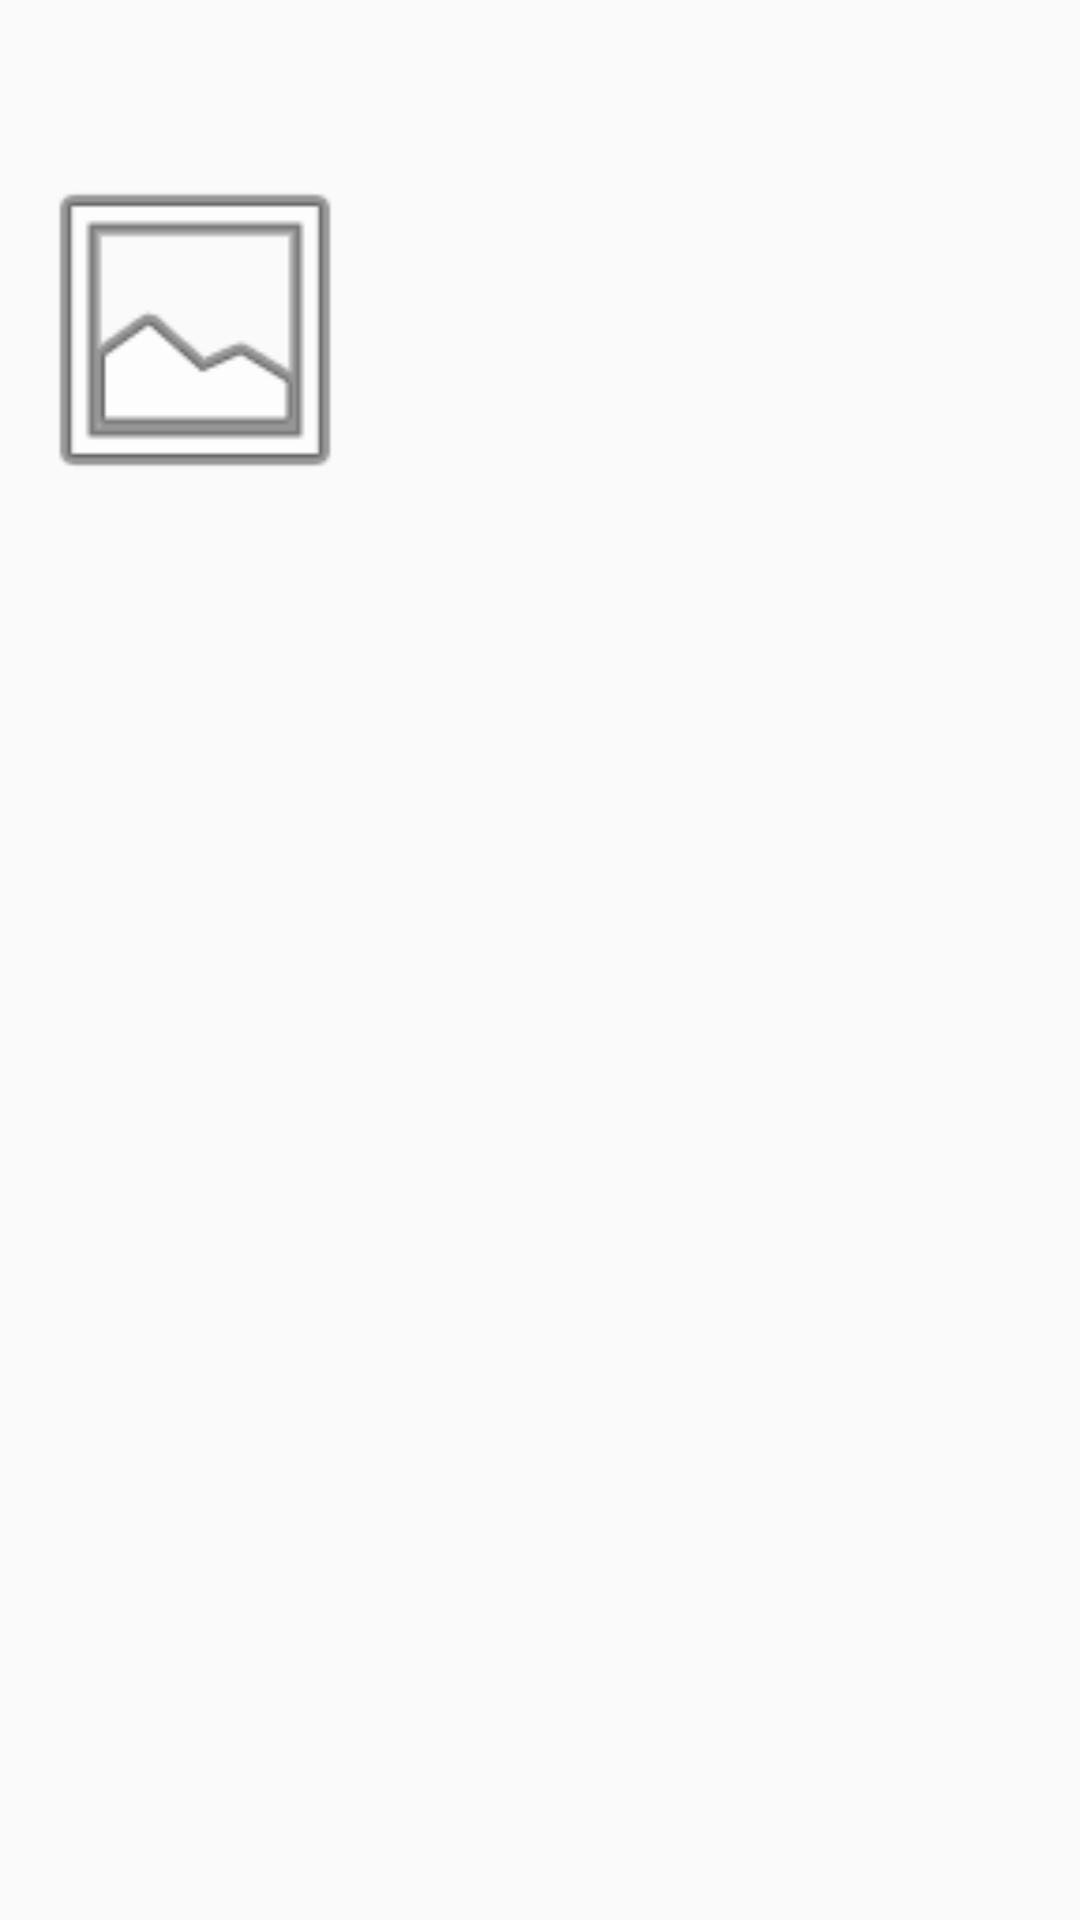

Screen size 1080 x 1920. Icon name, then its box in pixels as (x1, y1, x2, y2):
gallery: (59, 194, 331, 466)
